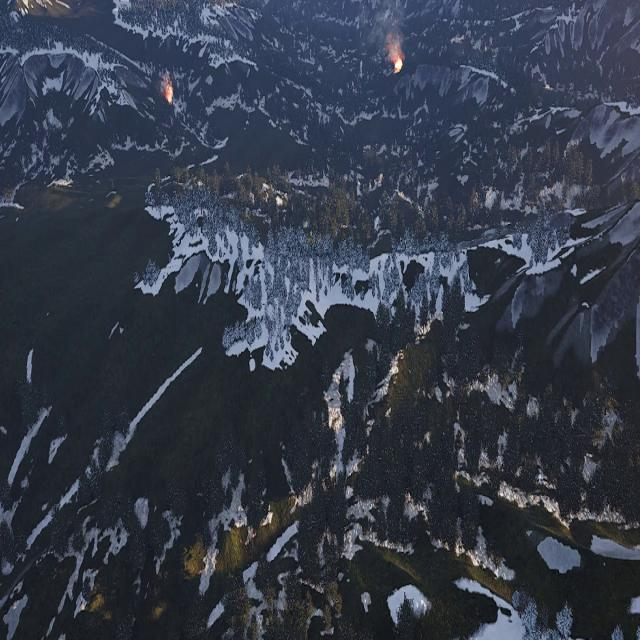fire: (393, 57, 403, 73), (165, 86, 173, 104)
smoke: (340, 0, 404, 58)
